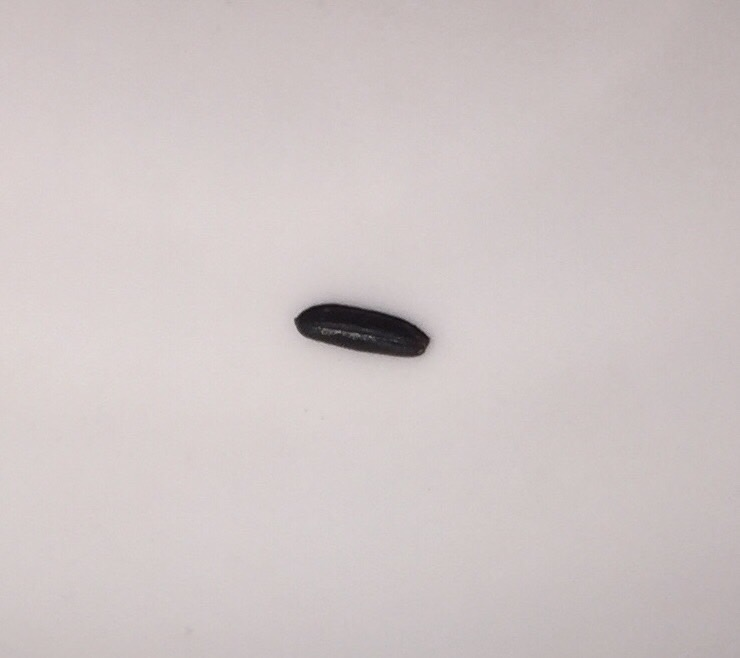Gao Nep Cam: (290, 292, 430, 373)
